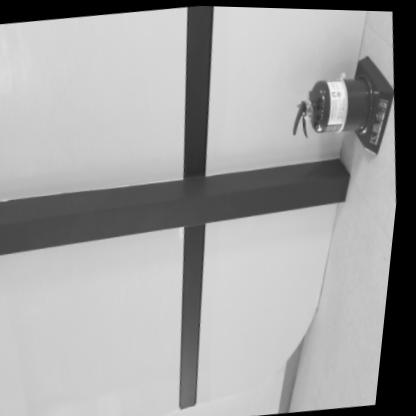FE: (281, 46, 406, 163)
